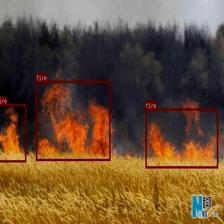fire: (36, 80, 110, 160), (145, 108, 218, 168), (0, 104, 26, 162)
